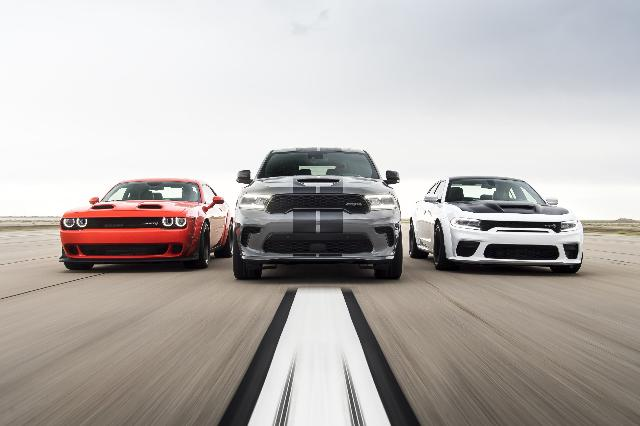dodge: (231, 147, 403, 281), (408, 176, 584, 276), (58, 178, 232, 270)
